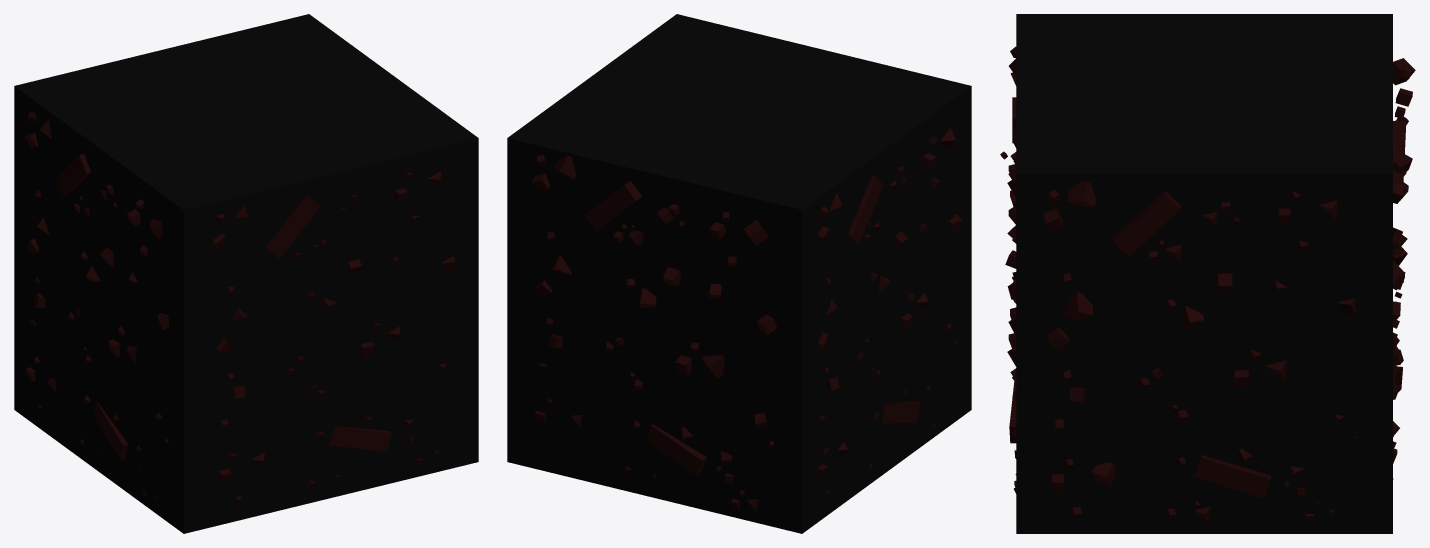
The model's file is SM_ConcreteWall.fbx.
3 views of the same model, side by side, from view 1: azimuth 30°, elevation 25°; view 2: azimuth 150°, elevation 25°; view 3: azimuth 270°, elevation 25° (orthographic). The views are drawn at different scales.
Visible parts, largest first — view 1: Concrete; view 2: Concrete; view 3: Concrete.
Boxes of the visible parts, x1,y1,x2,y2 form: Concrete: (14,14,478,533); Concrete: (507,14,971,533); Concrete: (1000,14,1415,533).
Size of the model in its own units: 42.72 by 41.36 by 43.27.
